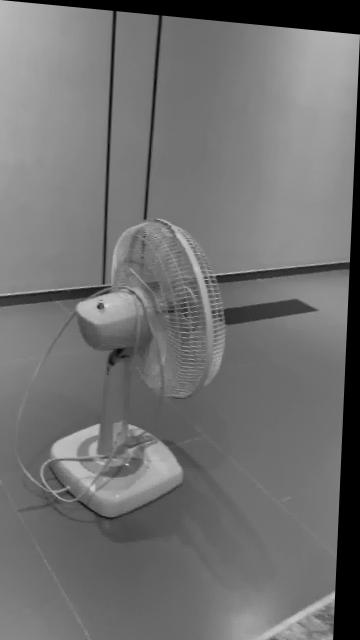Fan: (53, 215, 229, 517)
